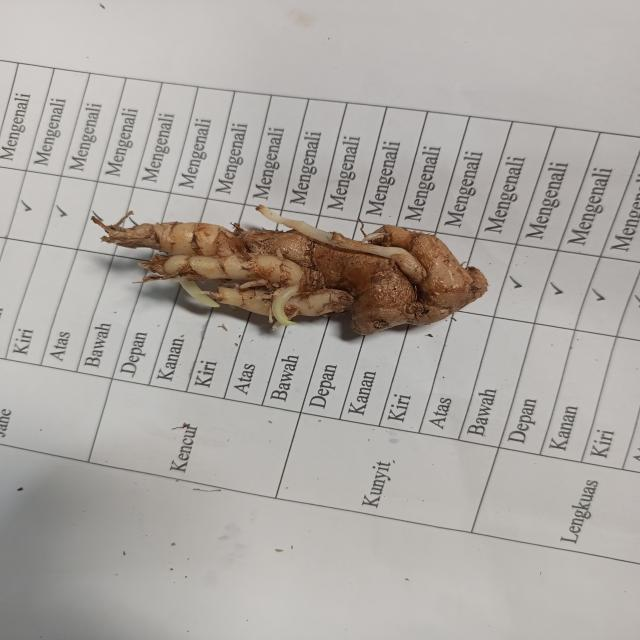ginger: (127, 212, 471, 329)
